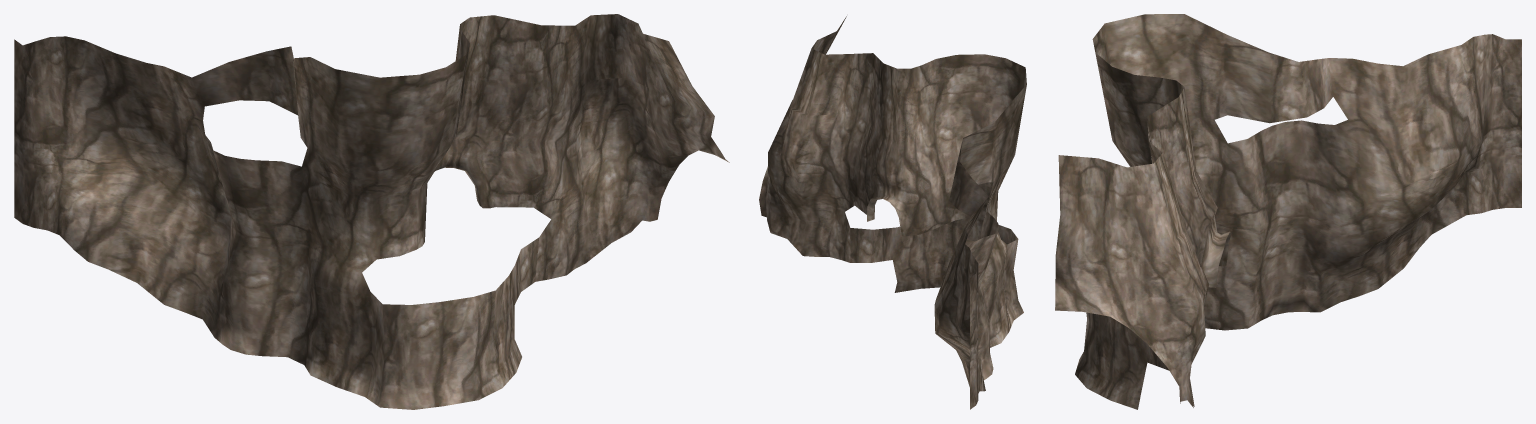
Rendered from EKH_THRONE_PS_TH_LT_WALL_0452.fbx.
3 renders of one model, left to right at view 1: azimuth 30°, elevation 25°; view 2: azimuth 150°, elevation 25°; view 3: azimuth 270°, elevation 25°, orthographic. The views are drawn at different scales.
Parts seen in each view (by area): view 1: EKH_THRONE_PS_TH_LT_WALL_0452; view 2: EKH_THRONE_PS_TH_LT_WALL_0452; view 3: EKH_THRONE_PS_TH_LT_WALL_0452.
Boxes of the visible parts, x1=… form: EKH_THRONE_PS_TH_LT_WALL_0452: x1=14, y1=14, x2=729, y2=409; EKH_THRONE_PS_TH_LT_WALL_0452: x1=759, y1=16, x2=1026, y2=409; EKH_THRONE_PS_TH_LT_WALL_0452: x1=1055, y1=14, x2=1521, y2=409.
Bounding box in the file's own units: 188620 × 127124 × 171875.
1 material, 1 textured.
